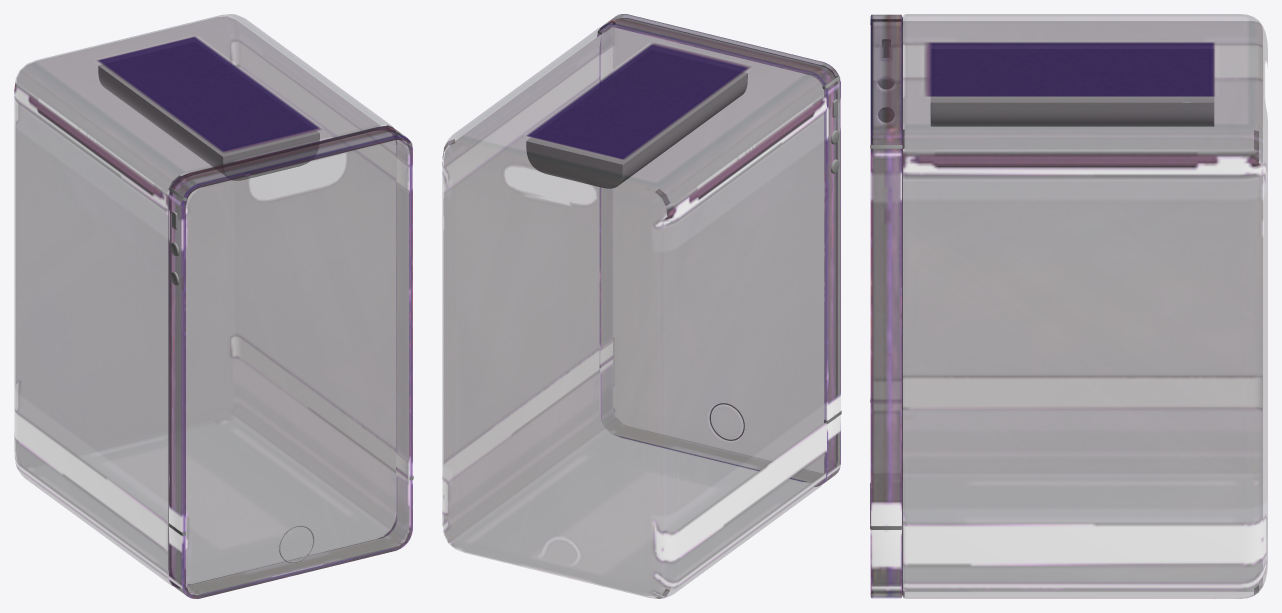
File: Glasscase.glb
The picture shows the model from 3 angles, left to right: view 1: azimuth 30°, elevation 25°; view 2: azimuth 150°, elevation 25°; view 3: azimuth 270°, elevation 25°; orthographic projection. The views are drawn at different scales.
Parts seen in each view (by area): view 1: GlassCase, GlassCase.001; view 2: GlassCase, GlassCase.001; view 3: GlassCase, GlassCase.001.
Part boxes in pixels (x1,y1,x2,y2): GlassCase: (14, 16, 413, 598); GlassCase.001: (14, 16, 412, 598); GlassCase: (442, 14, 841, 598); GlassCase.001: (442, 14, 840, 598); GlassCase: (870, 14, 1267, 598); GlassCase.001: (871, 15, 1266, 598).
Bounding box in the file's own units: 1.16 × 1.98 × 1.51.
Materials: 2 (2 with a texture image).
